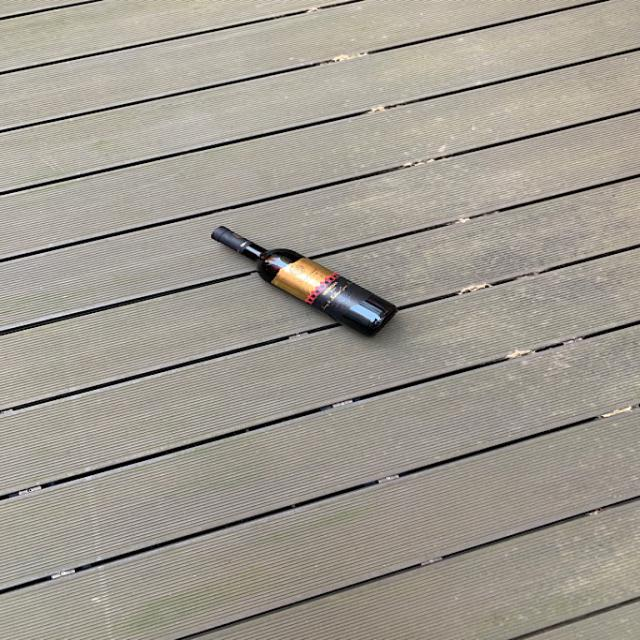litter: (208, 221, 404, 342)
